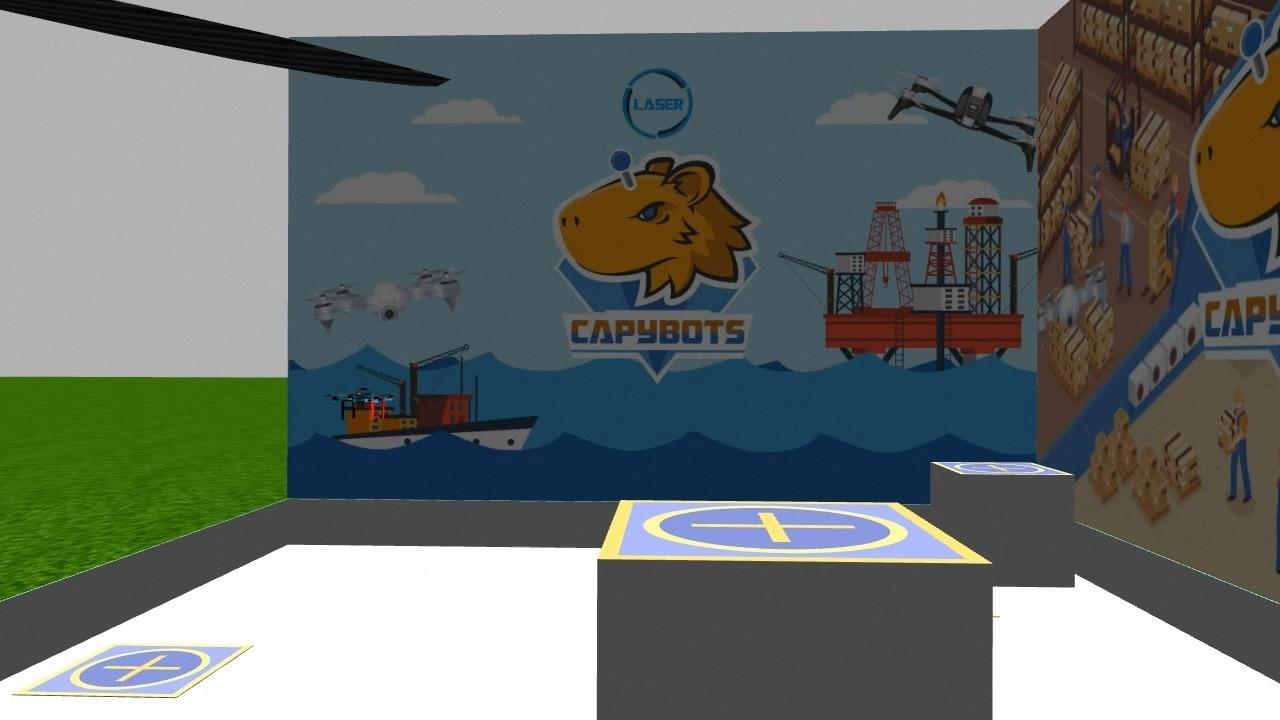UAV: (324, 378, 408, 434)
